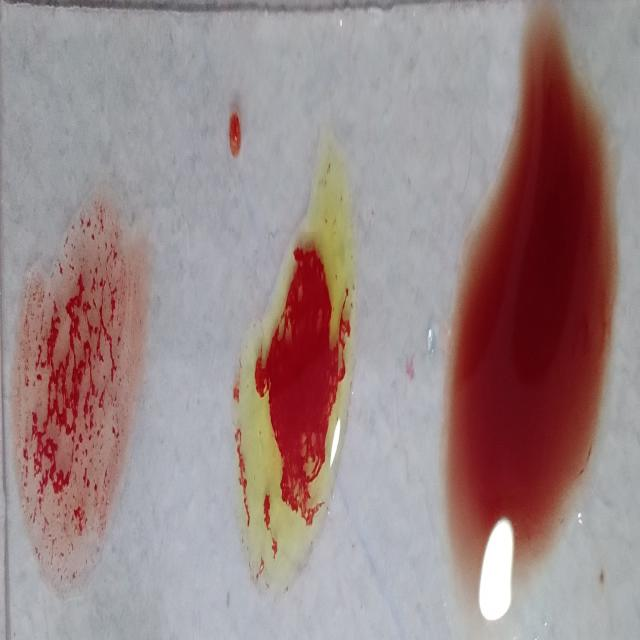B: (240, 132, 358, 588)
D: (14, 198, 130, 556)
